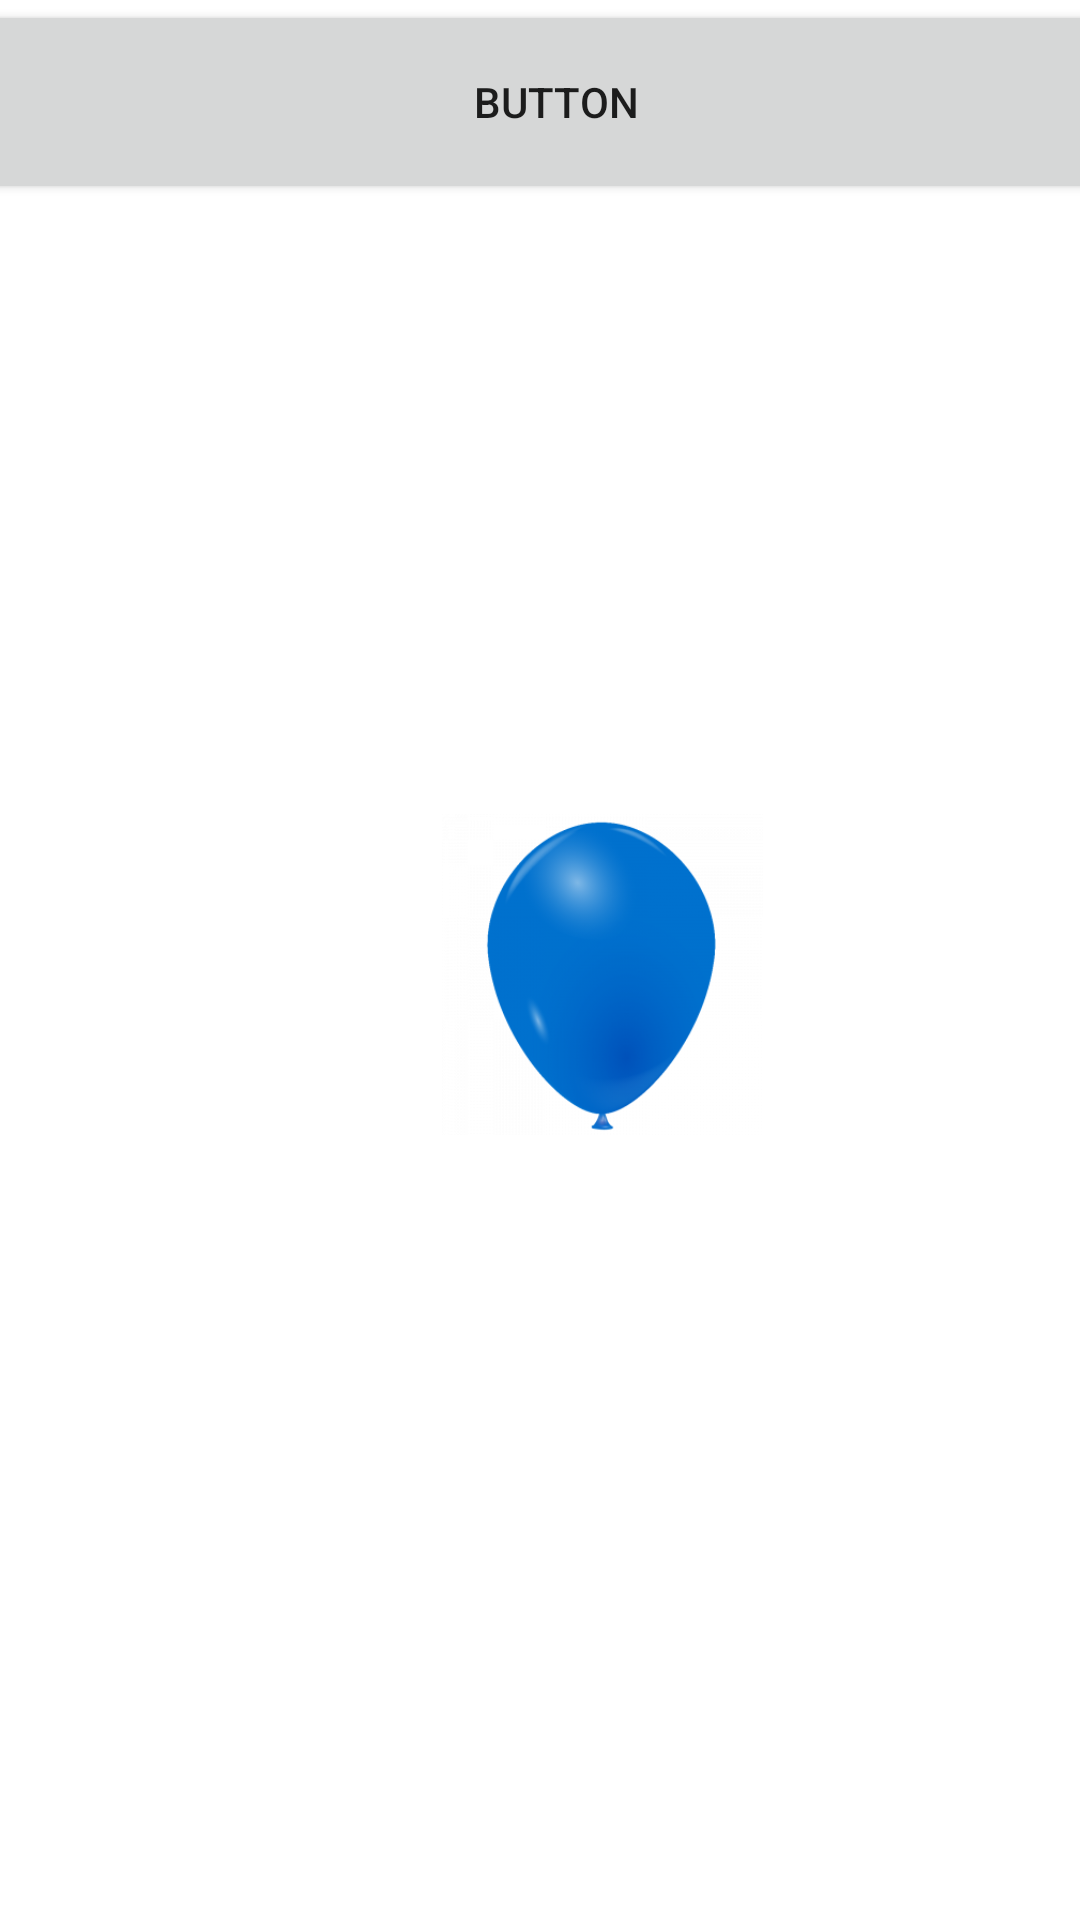

Screen size 1080 × 1920. Icon name, then its center in pixels as point (x, y):
ballonbleu: point (601, 976)
